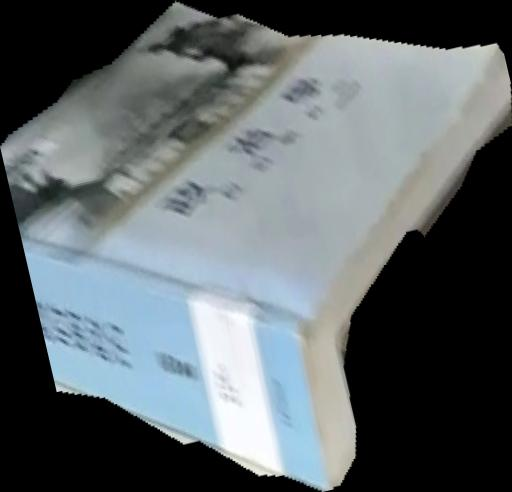flat: (1, 1, 512, 492)
